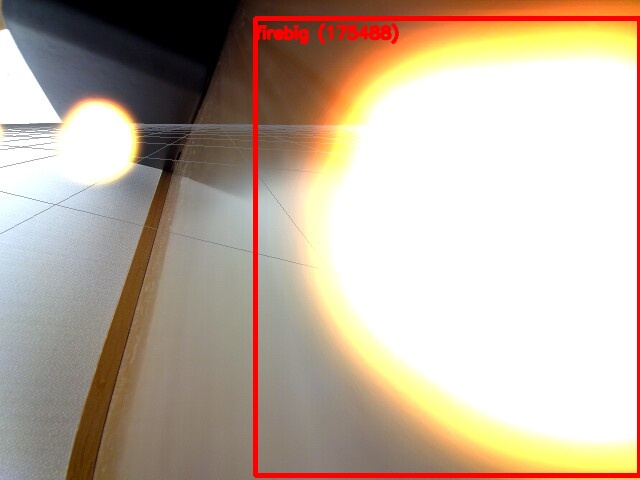firebig: (255, 18, 639, 475)
